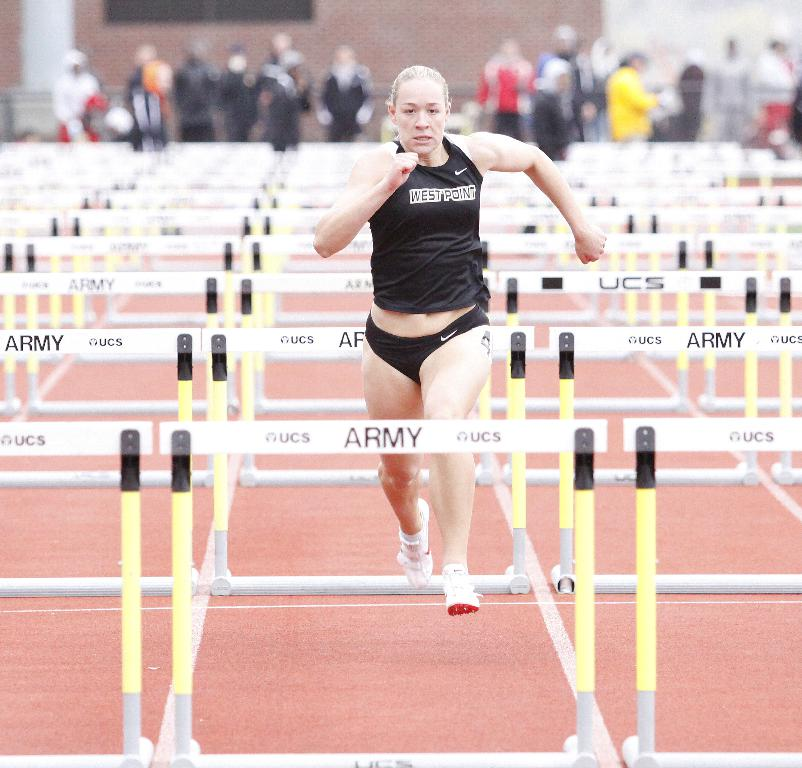Person: (51, 23, 801, 617)
